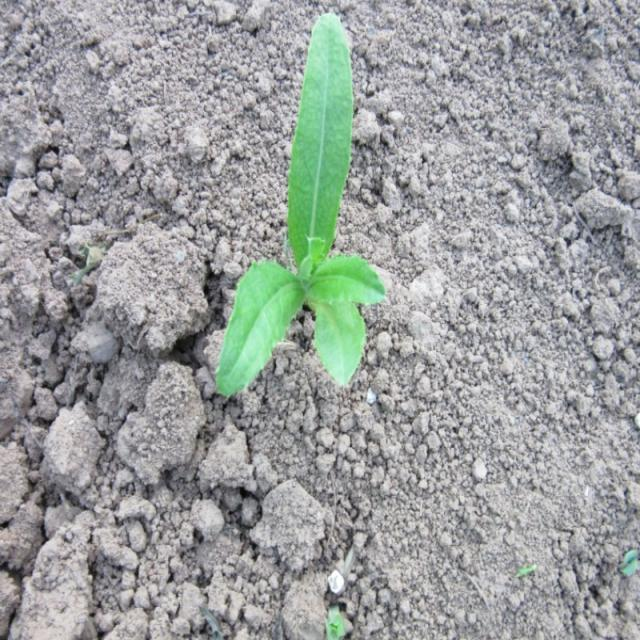cs: (212, 6, 388, 405)
